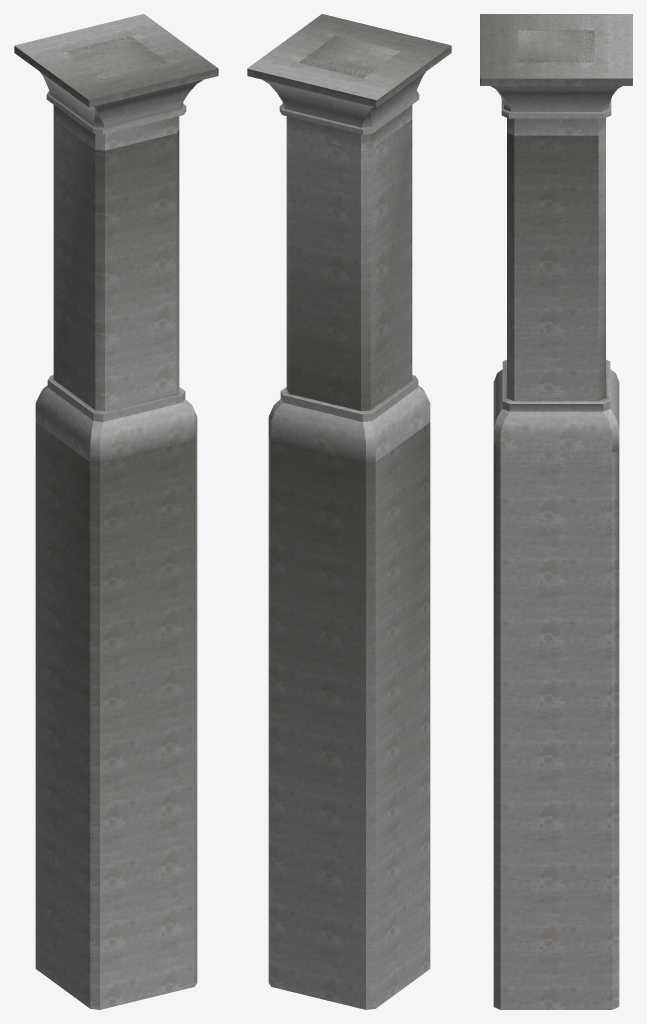
Rendered from pier.glb.
3 renders of one model, left to right at view 1: azimuth 30°, elevation 25°; view 2: azimuth 150°, elevation 25°; view 3: azimuth 270°, elevation 25°, orthographic.
Visible parts, largest first — view 1: pier_b_shaft, pier_b_detail, pier_a_detail; view 2: pier_b_shaft, pier_b_detail, pier_a_detail; view 3: pier_b_shaft, pier_b_detail, pier_a_detail.
Boxes of the visible parts, bbox=[...] form: pier_b_shaft: bbox=[35, 119, 197, 1009]; pier_b_detail: bbox=[14, 14, 218, 463]; pier_a_detail: bbox=[66, 35, 166, 78]; pier_b_shaft: bbox=[268, 119, 430, 1009]; pier_b_detail: bbox=[247, 14, 451, 463]; pier_a_detail: bbox=[299, 35, 399, 78]; pier_b_shaft: bbox=[493, 132, 619, 1009]; pier_b_detail: bbox=[480, 14, 632, 452]; pier_a_detail: bbox=[518, 30, 594, 62].
Bounding box in the file's own units: 6.8 × 46 × 6.8.
Materials: 1 (1 with a texture image).
